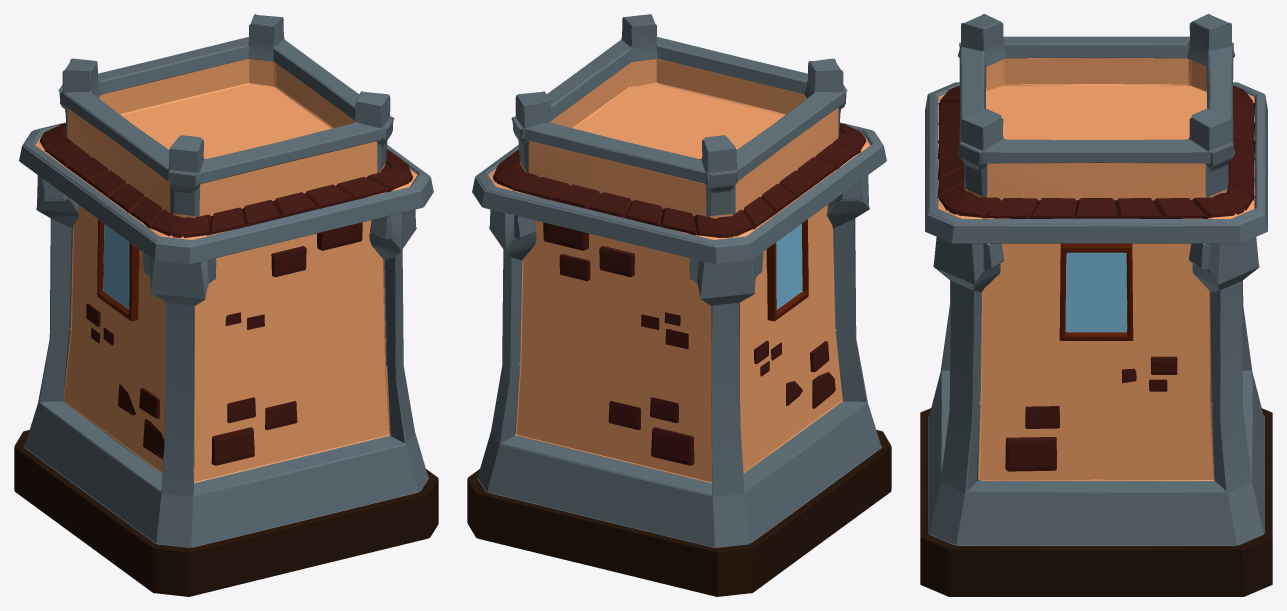
File: nisanc_3_seviye (3).fbx
3 views of the same model, side by side, from view 1: azimuth 30°, elevation 25°; view 2: azimuth 150°, elevation 25°; view 3: azimuth 270°, elevation 25° (orthographic). The views are drawn at different scales.
Parts seen in each view (by area): view 1: Cube.003; view 2: Cube.003; view 3: Cube.003.
Part boxes in pixels (x1,y1,x2,y2): Cube.003: [14, 14, 438, 596]; Cube.003: [467, 14, 891, 596]; Cube.003: [920, 14, 1272, 596].
Size of the model in its own units: 330 by 470 by 330.
